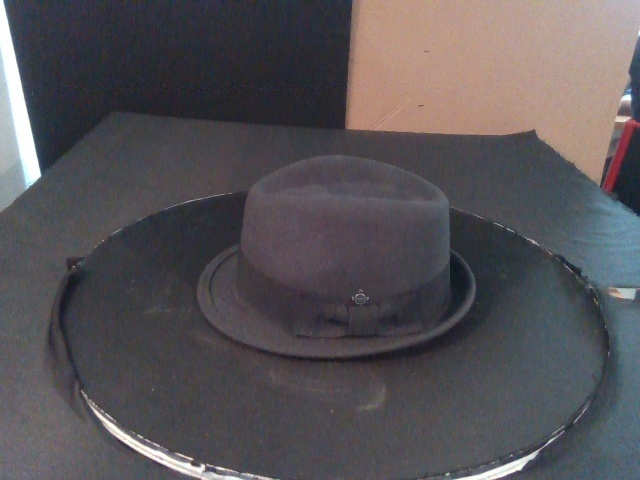hat: (196, 155, 477, 358)
